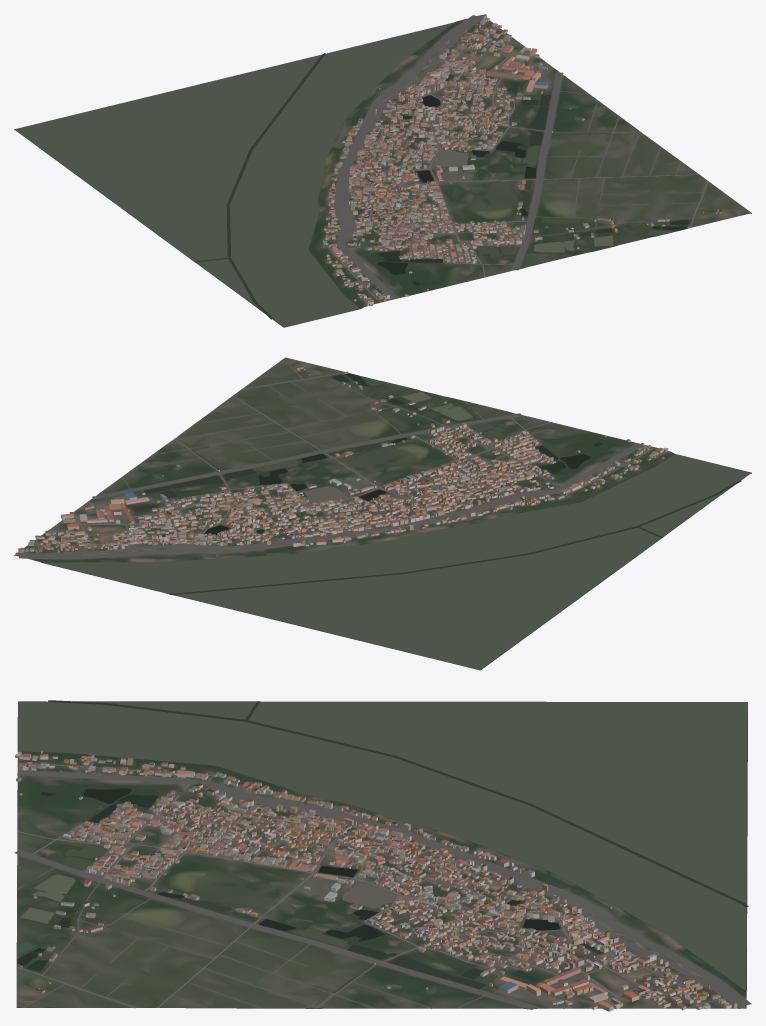
The picture shows the model from 3 angles, top to bottom: view 1: azimuth 30°, elevation 25°; view 2: azimuth 150°, elevation 25°; view 3: azimuth 270°, elevation 25°; orthographic projection. The views are drawn at different scales.
Visible parts, largest first — view 1: water, ground, buildings, roads; view 2: water, ground, buildings, roads; view 3: water, ground, buildings, roads.
Part boxes in pixels (x1,y1,x2,y2): water: (15,22,688,327); ground: (14,15,751,327); buildings: (323,14,721,306); roads: (326,15,748,302); water: (43,373,750,669); ground: (14,357,751,670); buildings: (18,366,668,556); roads: (15,359,654,559); water: (17,700,748,1008); ground: (16,701,747,1009); buildings: (15,750,737,1011); roads: (14,762,751,1009).
Bounding box in the file's own units: 1417 × 20.99 × 1417.
